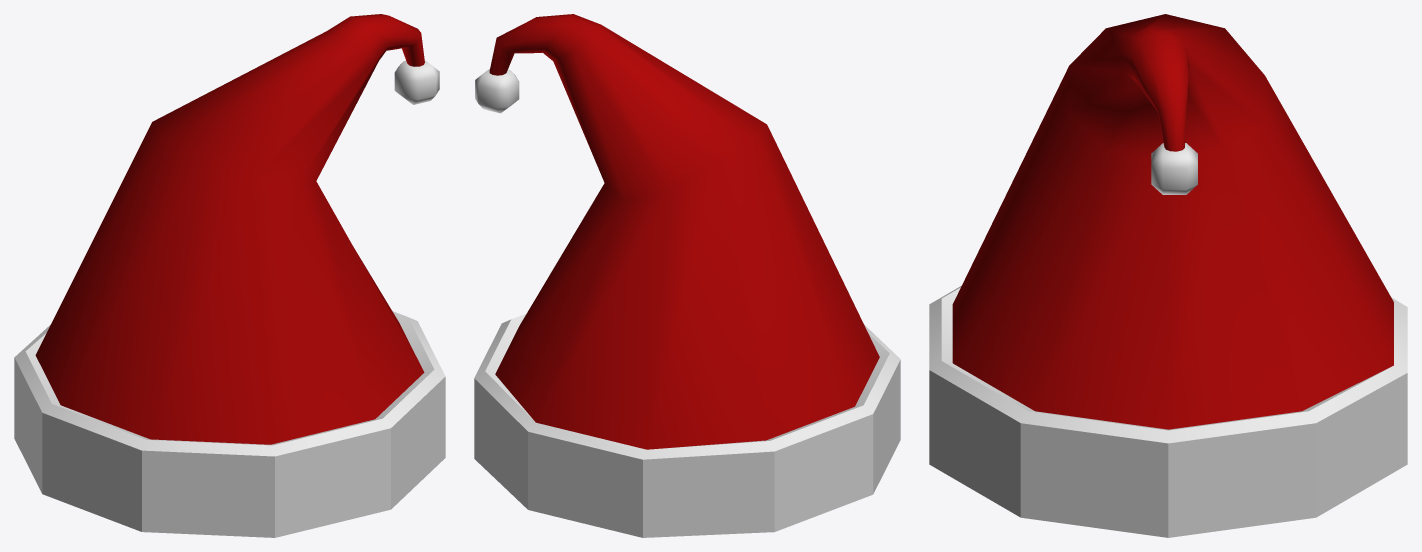
File: Santa.fbx
3 views of the same model, side by side, from view 1: azimuth 30°, elevation 25°; view 2: azimuth 150°, elevation 25°; view 3: azimuth 270°, elevation 25° (orthographic). The views are drawn at different scales.
Visible parts, largest first — view 1: SantaHat; view 2: SantaHat; view 3: SantaHat.
Part boxes in pixels (bbox=[...]): SantaHat: bbox=[14, 14, 445, 537]; SantaHat: bbox=[474, 14, 900, 537]; SantaHat: bbox=[929, 14, 1407, 537].
Size of the model in its own units: 0.4388 by 0.4285 by 0.3967.
